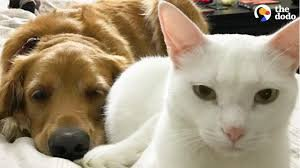cat: (122, 3, 298, 168)
dog: (4, 2, 155, 163)
